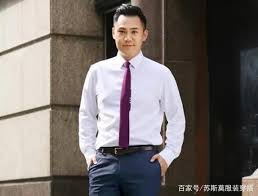F_belt: (94, 144, 163, 156)
F_shirt: (78, 51, 187, 166)
F_tie: (116, 62, 134, 154)
